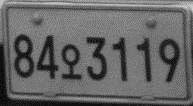1: (110, 35, 129, 82), (135, 36, 154, 82)
3: (85, 35, 108, 81)
4: (34, 34, 58, 80)
8: (13, 33, 35, 79)
9: (157, 37, 180, 84)
오: (59, 43, 82, 80)
